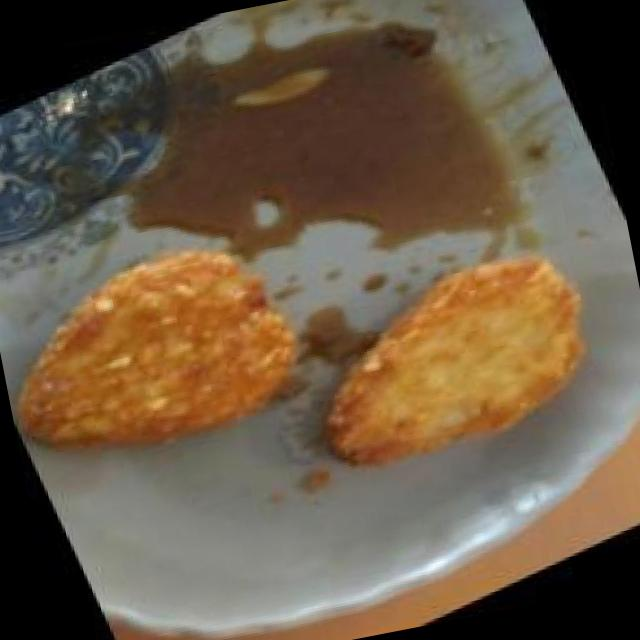triangle_hash_brown: (272, 219, 634, 507), (0, 208, 324, 506)
